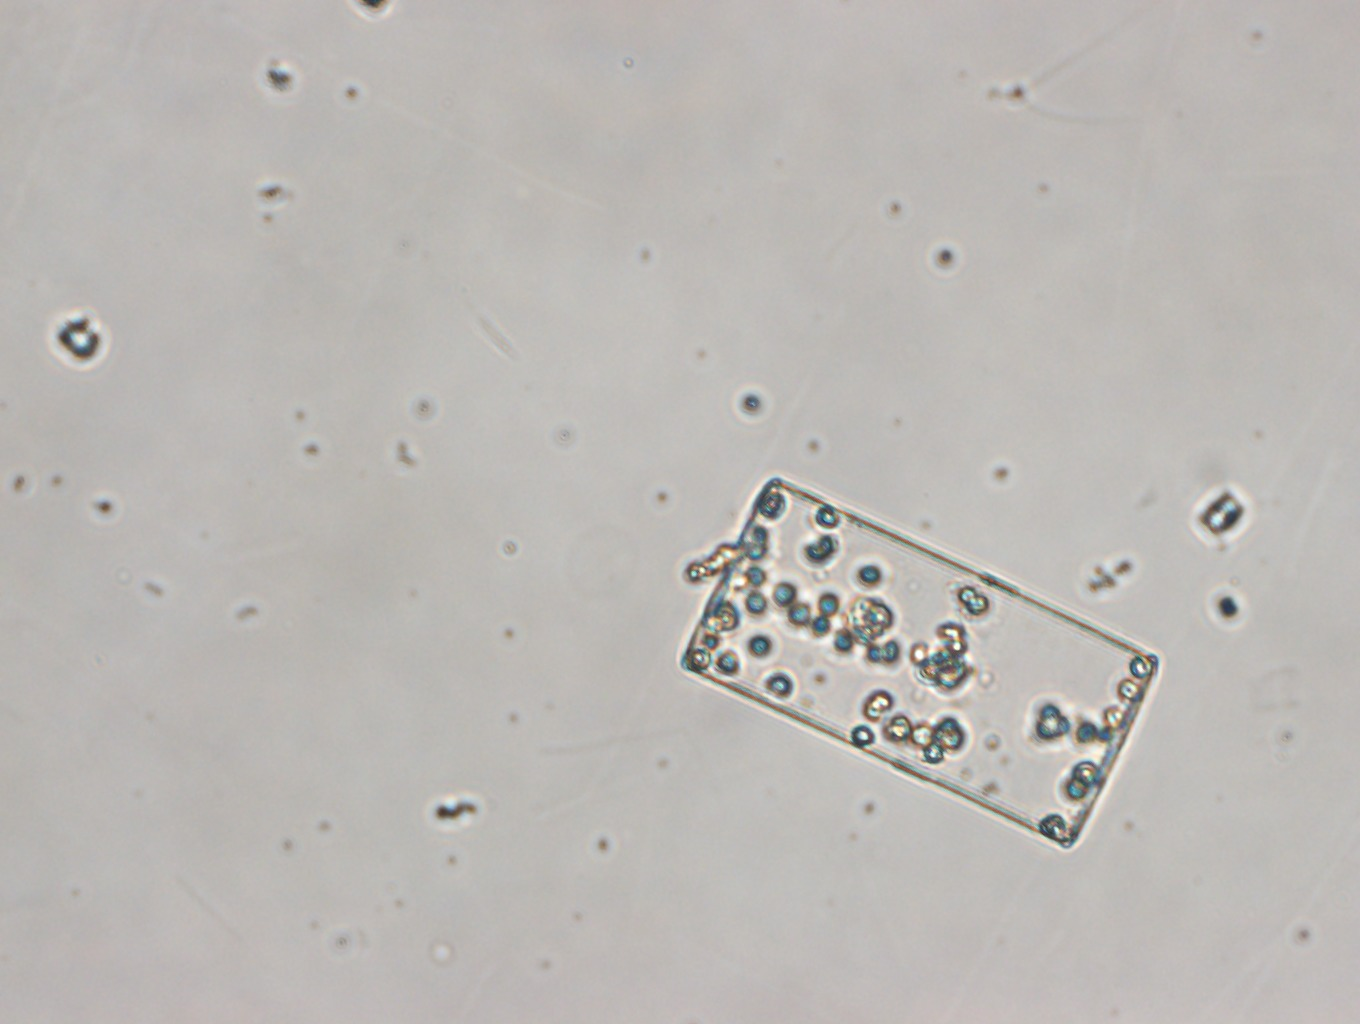guinardia flaccida: (677, 477, 1162, 850)
